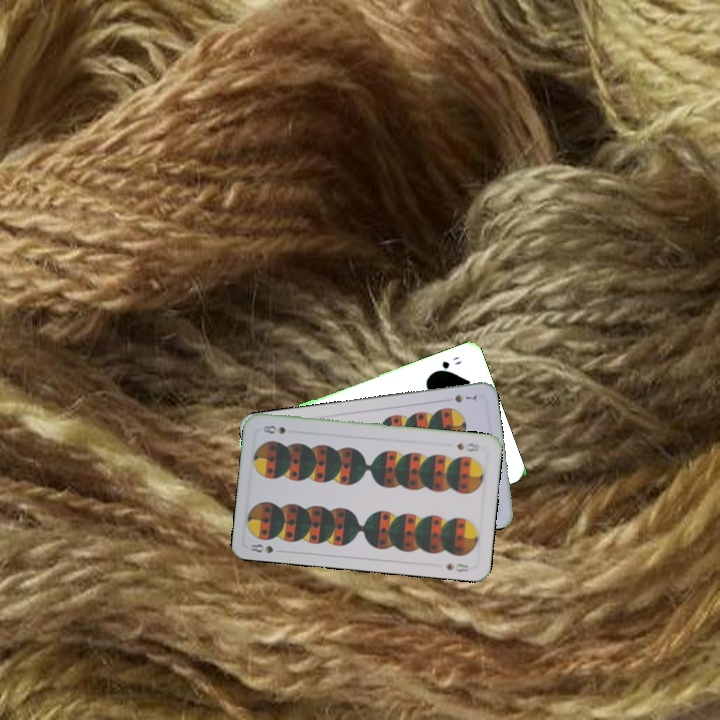GO: (429, 352, 465, 376)
S7: (450, 391, 481, 405)
S8: (246, 540, 287, 556), (453, 439, 483, 454)
